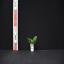leaf: (32, 36, 37, 42), (27, 38, 32, 43), (32, 39, 37, 43), (28, 41, 32, 44), (29, 42, 32, 45), (30, 38, 32, 42), (32, 42, 36, 44)
